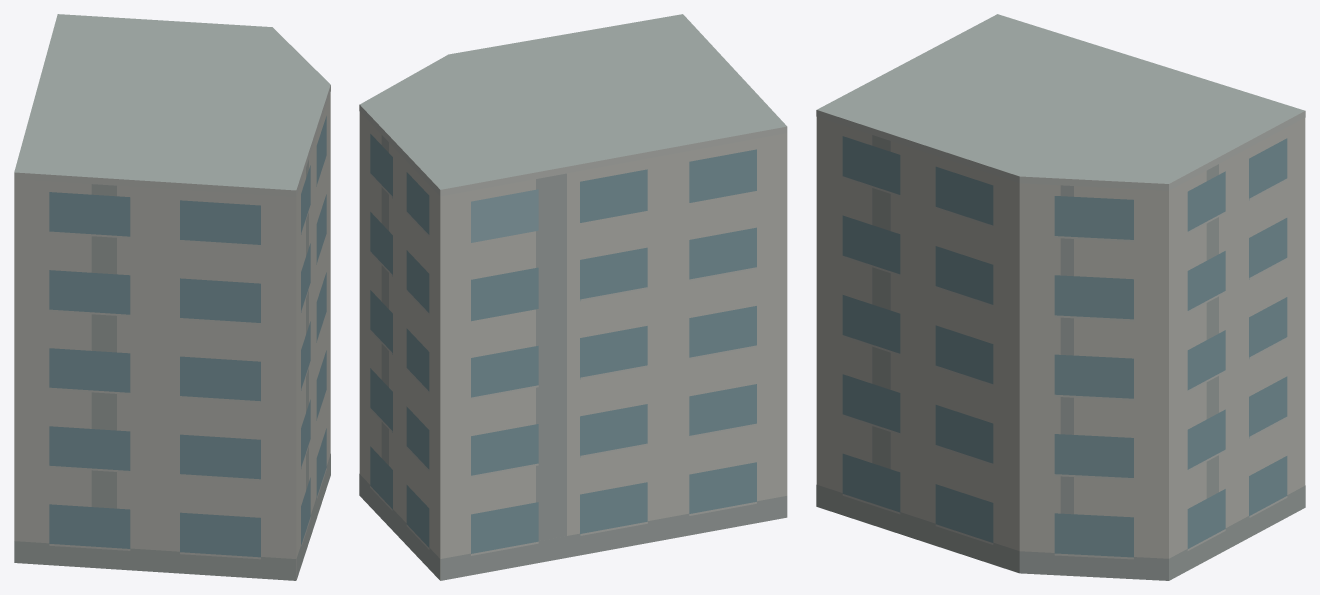
The model's file is survey-upis-32630927.glb.
The picture shows the model from 3 angles, left to right: view 1: azimuth 30°, elevation 25°; view 2: azimuth 150°, elevation 25°; view 3: azimuth 270°, elevation 25°; orthographic projection.
Visible parts, largest first — view 1: survey-upis-32630927.tmp; view 2: survey-upis-32630927.tmp; view 3: survey-upis-32630927.tmp.
Boxes of the visible parts, x1=… form: survey-upis-32630927.tmp: x1=14, y1=14, x2=330, y2=580; survey-upis-32630927.tmp: x1=359, y1=14, x2=787, y2=580; survey-upis-32630927.tmp: x1=816, y1=14, x2=1305, y2=580.
Bounding box in the file's own units: 13.05 × 14.2 × 15.86.
